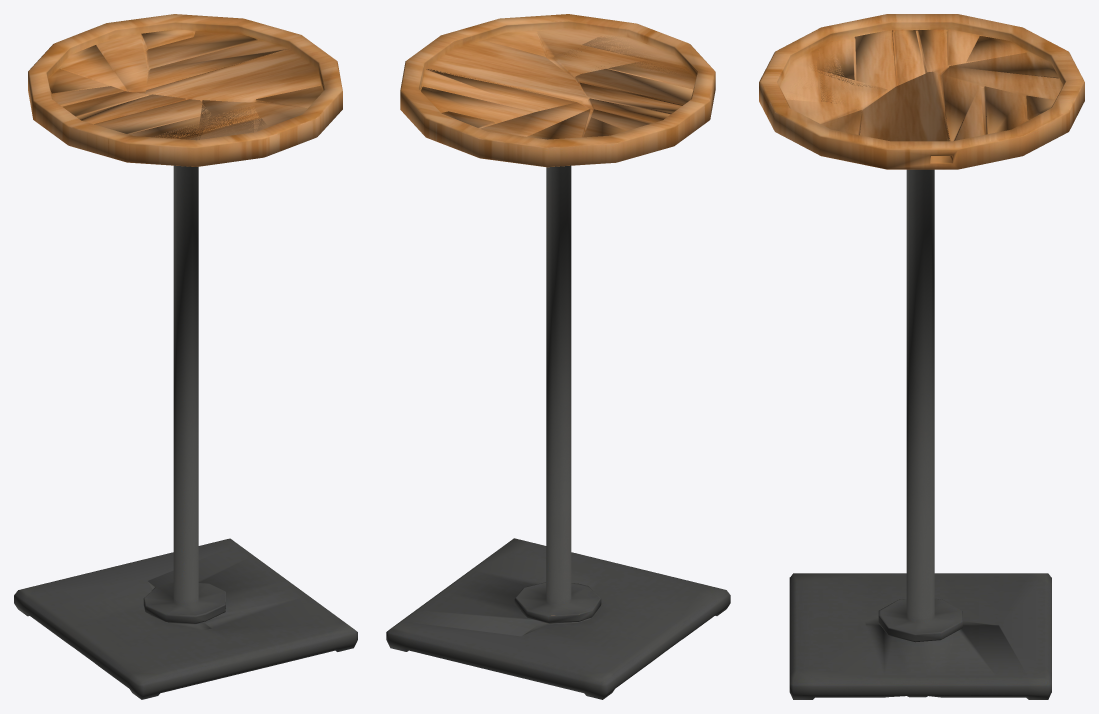
The model's file is gym_speed_bag.glb.
The picture shows the model from 3 angles, left to right: view 1: azimuth 30°, elevation 25°; view 2: azimuth 150°, elevation 25°; view 3: azimuth 270°, elevation 25°; orthographic projection. The views are drawn at different scales.
Visible parts, largest first — view 1: tripo_node_9c690677-b5a9-4ec6-b9fe-8806b2ac35b9; view 2: tripo_node_9c690677-b5a9-4ec6-b9fe-8806b2ac35b9; view 3: tripo_node_9c690677-b5a9-4ec6-b9fe-8806b2ac35b9.
Boxes of the visible parts, x1,y1,x2,y2 form: tripo_node_9c690677-b5a9-4ec6-b9fe-8806b2ac35b9: (14, 14, 357, 699); tripo_node_9c690677-b5a9-4ec6-b9fe-8806b2ac35b9: (386, 14, 730, 699); tripo_node_9c690677-b5a9-4ec6-b9fe-8806b2ac35b9: (759, 14, 1084, 699).
Bounding box in the file's own units: 0.5147 × 1 × 0.5225.
Materials: 1 (1 with a texture image).
